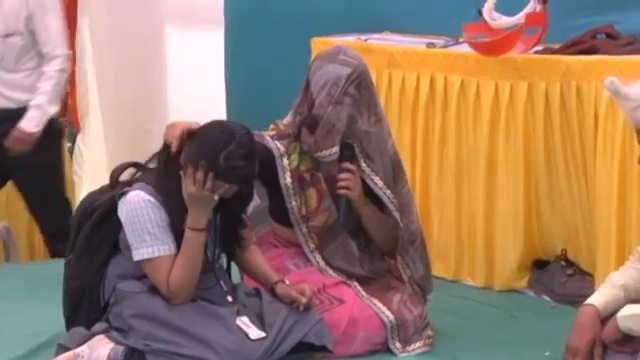helmet_off: (294, 44, 386, 145), (175, 126, 259, 200), (601, 70, 640, 179)
person: (53, 124, 333, 359), (257, 44, 430, 322), (563, 74, 640, 358), (2, 0, 76, 253)
